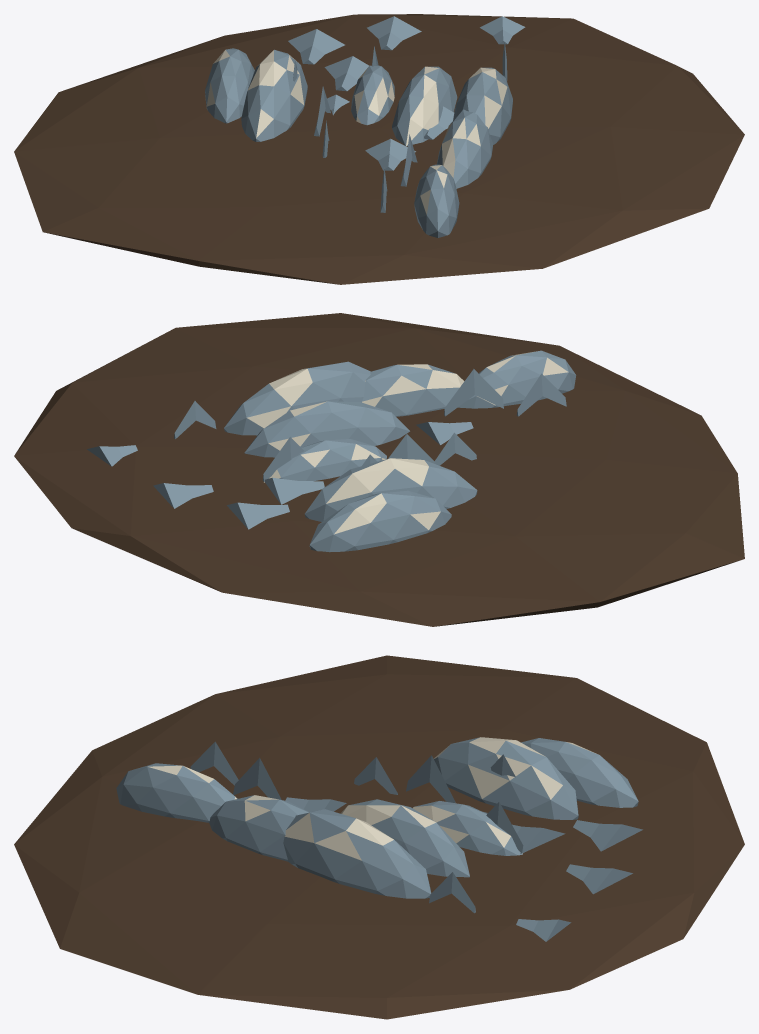
File: fish_shoal.glb
3 renders of one model, top to bottom at view 1: azimuth 30°, elevation 25°; view 2: azimuth 150°, elevation 25°; view 3: azimuth 270°, elevation 25°, orthographic. The views are drawn at different scales.
Visible parts, largest first — view 1: fish_shoal.001; view 2: fish_shoal.001; view 3: fish_shoal.001.
Boxes of the visible parts, x1=… form: fish_shoal.001: x1=14, y1=14, x2=744, y2=284; fish_shoal.001: x1=14, y1=313, x2=744, y2=626; fish_shoal.001: x1=14, y1=655, x2=744, y2=1019.
Size of the model in its own units: 0.98 by 0.1221 by 0.8316.
